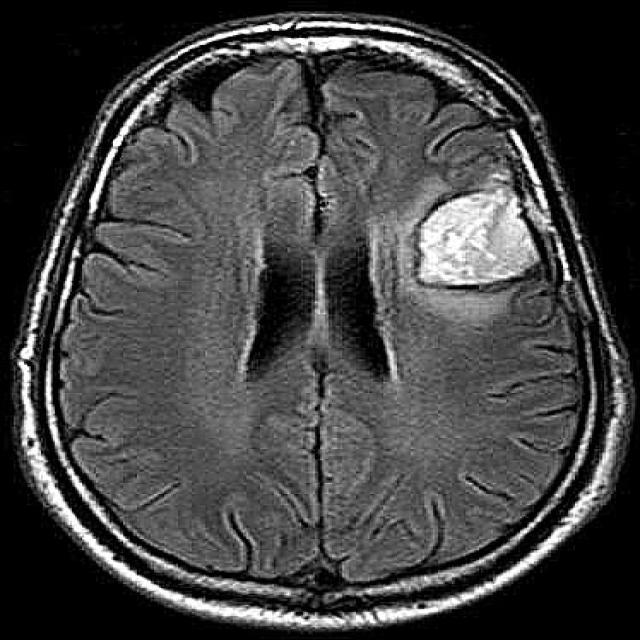Tumor-Cell: (419, 173, 550, 313)
